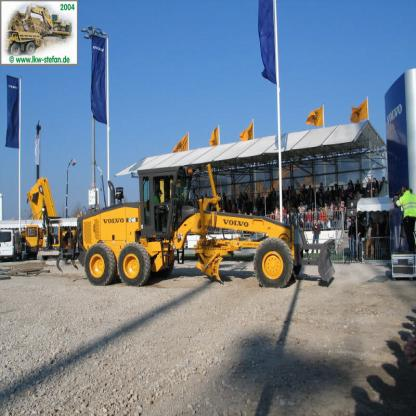bull_dozer/loader/grader: (60, 162, 308, 294)
